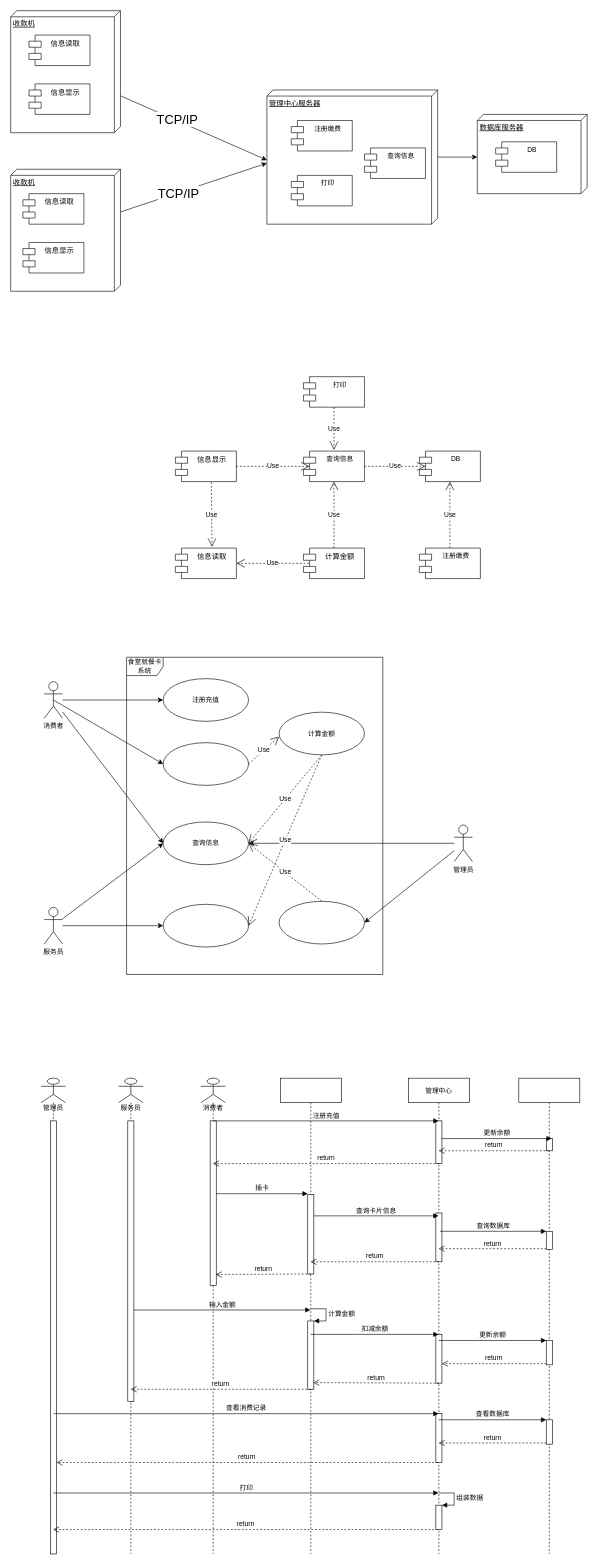
Some shapes in this 598 by 1565 pixel diagram are drawn without their labels. The centre of each missing label's shape, as x and y in pixels:
刷卡机: [310,1316]
刷卡消费: [206,763]
打印信息: [321,922]
数据库: [549,1316]
输入消费金额: [206,925]
